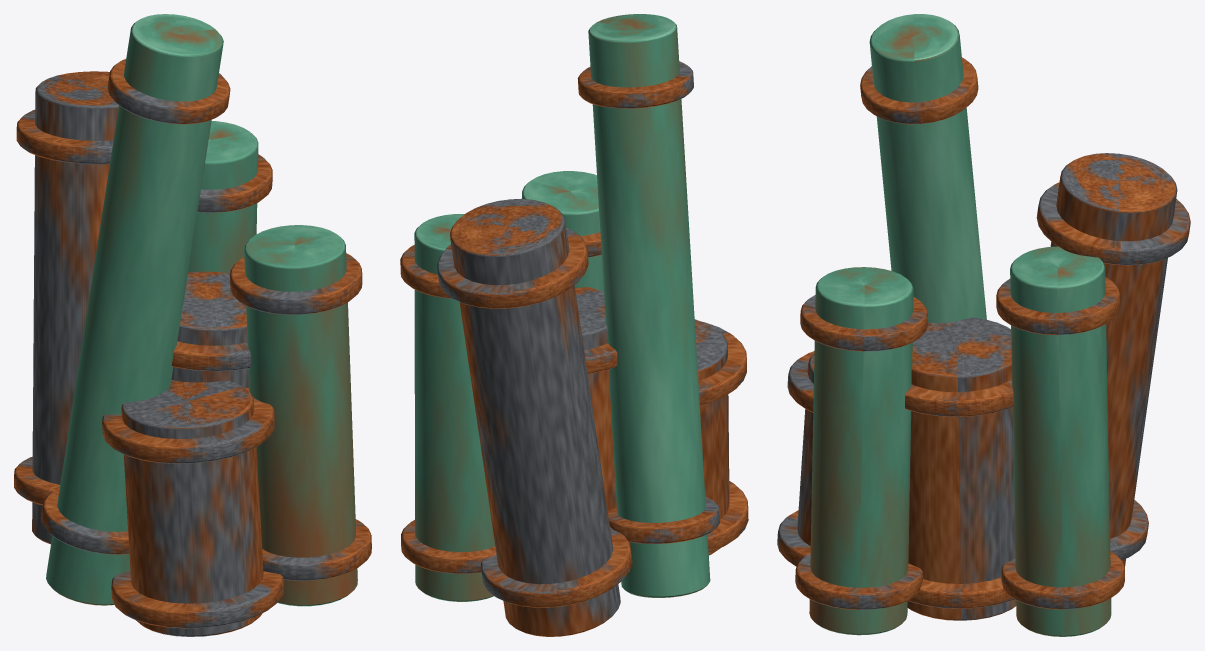
The model's file is pipe_cluster.gltf.
3 renders of one model, left to right at view 1: azimuth 30°, elevation 25°; view 2: azimuth 150°, elevation 25°; view 3: azimuth 270°, elevation 25°, orthographic. The views are drawn at different scales.
Parts seen in each view (by area): view 1: pipe_cluster; view 2: pipe_cluster; view 3: pipe_cluster.
Boxes of the visible parts, box(x1,y1,x2,y2) form: pipe_cluster: box(14, 14, 371, 636); pipe_cluster: box(400, 14, 748, 636); pipe_cluster: box(777, 14, 1190, 636).
Bounding box in the file's own units: 1.25 × 2.53 × 1.74.
2 materials, 2 textured.
